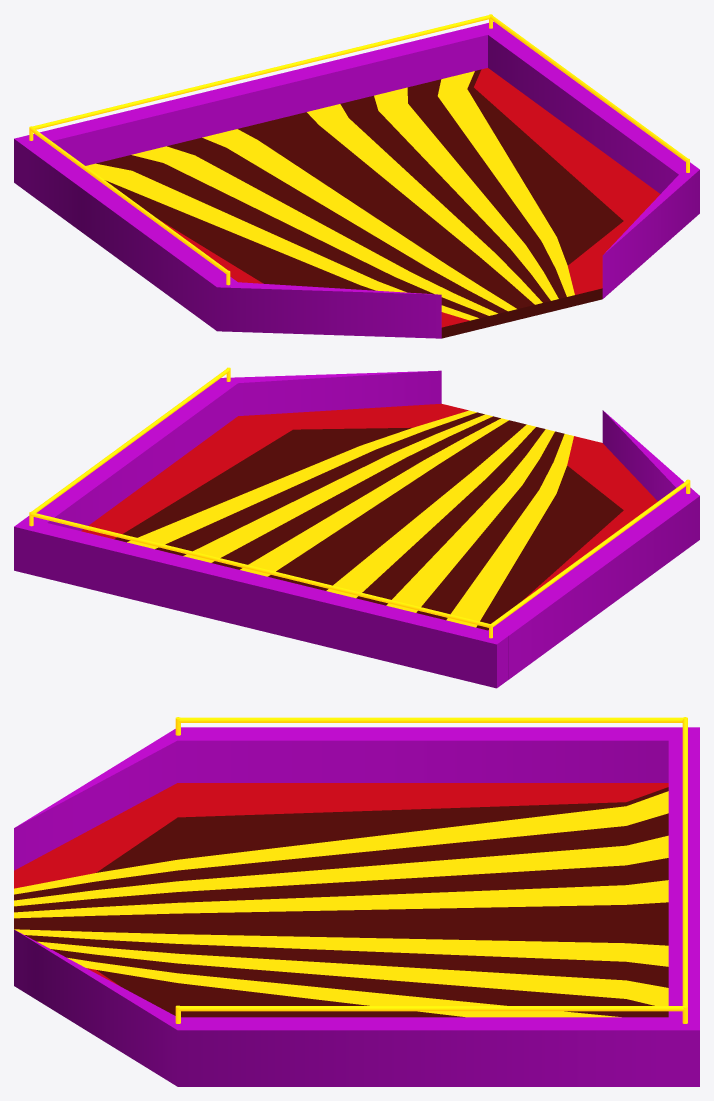
File: flipperTexture.fbx
The picture shows the model from 3 angles, top to bottom: view 1: azimuth 30°, elevation 25°; view 2: azimuth 150°, elevation 25°; view 3: azimuth 270°, elevation 25°; orthographic projection. The views are drawn at different scales.
Parts seen in each view (by area): view 1: Box001, Box002, Box004, Box003, Cylinder005, Cylinder002, Cylinder004; view 2: Box001, Box004, Box003, Box002, Cylinder005, Cylinder004, Cylinder002; view 3: Box001, Box003, Box002, Box004, Cylinder004, Cylinder002, Cylinder005.
Boxes of the visible parts, x1,y1,x2,y2 form: Box001: (86,68,660,338); Box002: (26,142,441,338); Box004: (14,21,505,190); Box003: (488,30,699,298); Cylinder005: (31,15,490,129); Cylinder002: (29,126,230,285); Cylinder004: (489,14,689,172); Box001: (81,403,657,630); Box004: (14,518,508,688); Box003: (26,370,441,530); Box002: (488,410,699,679); Cylinder005: (31,512,490,627); Cylinder004: (29,367,230,526); Cylinder002: (489,479,690,638); Box001: (14,783,668,1017); Box003: (14,929,669,1086); Box002: (14,727,668,870); Box004: (668,727,699,1086); Cylinder004: (175,1005,687,1023); Cylinder002: (175,717,687,735); Cylinder005: (682,718,687,1006).
Bounding box in the file's own units: 9198 × 1037 × 8800.
